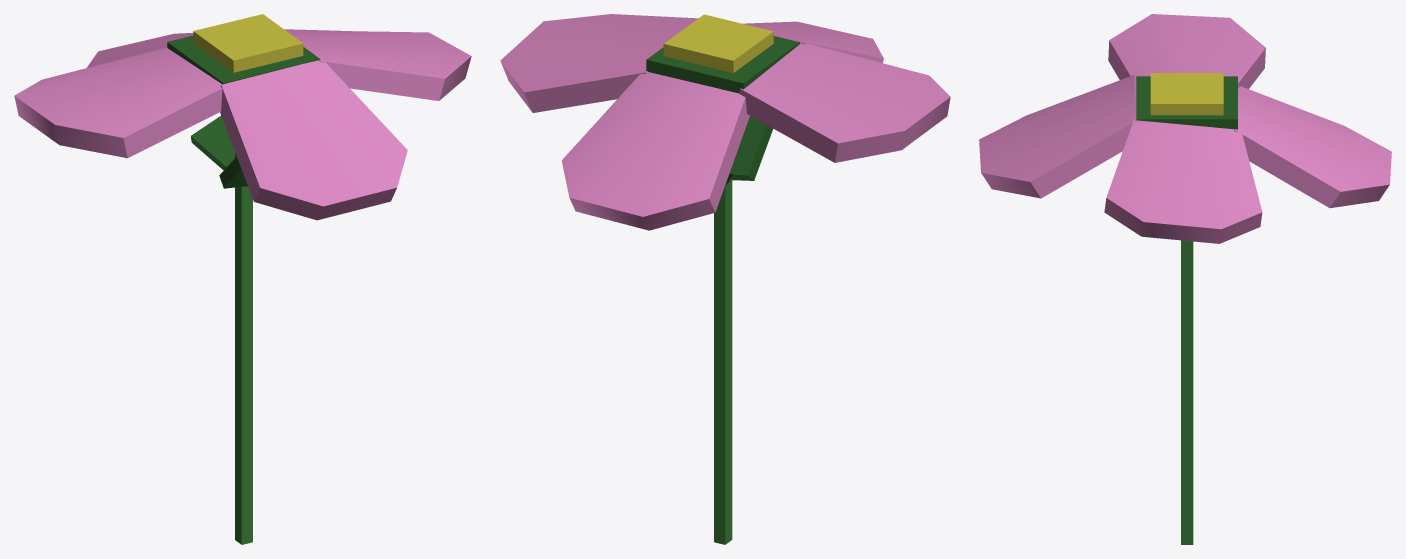
Rendered from Flower06.fbx.
The picture shows the model from 3 angles, left to right: view 1: azimuth 30°, elevation 25°; view 2: azimuth 150°, elevation 25°; view 3: azimuth 270°, elevation 25°; orthographic projection. The views are drawn at different scales.
Parts seen in each view (by area): view 1: PinkFlower; view 2: PinkFlower; view 3: PinkFlower.
Boxes of the visible parts, bbox=[...] form: PinkFlower: bbox=[14, 14, 471, 544]; PinkFlower: bbox=[500, 14, 950, 544]; PinkFlower: bbox=[979, 14, 1391, 544].
Size of the model in its own units: 0.1544 by 0.1799 by 0.1477.
